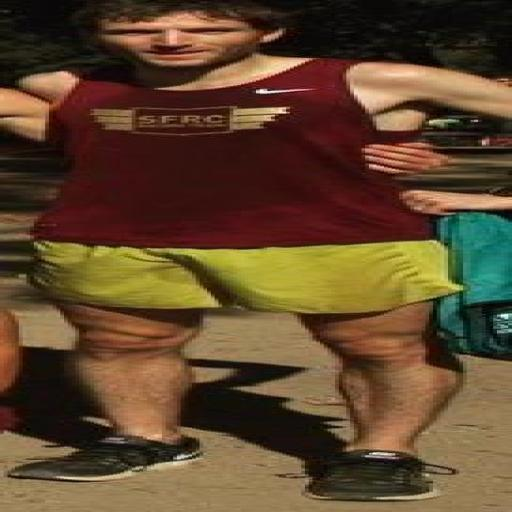person: (8, 0, 511, 501), (403, 187, 511, 215), (0, 310, 22, 429)
